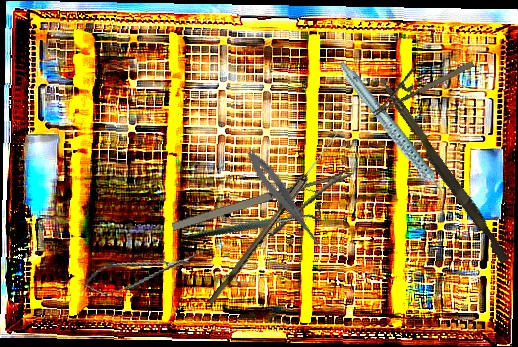Handpiece: (337, 46, 449, 222)
Hook Surgical: (184, 166, 326, 277)
Micro Scissor: (242, 146, 330, 253), (80, 247, 202, 299)
Needle Holder: (170, 168, 364, 261), (362, 43, 476, 117)
Pusher: (372, 77, 514, 264)
Surgical Spoon: (207, 130, 341, 308)
